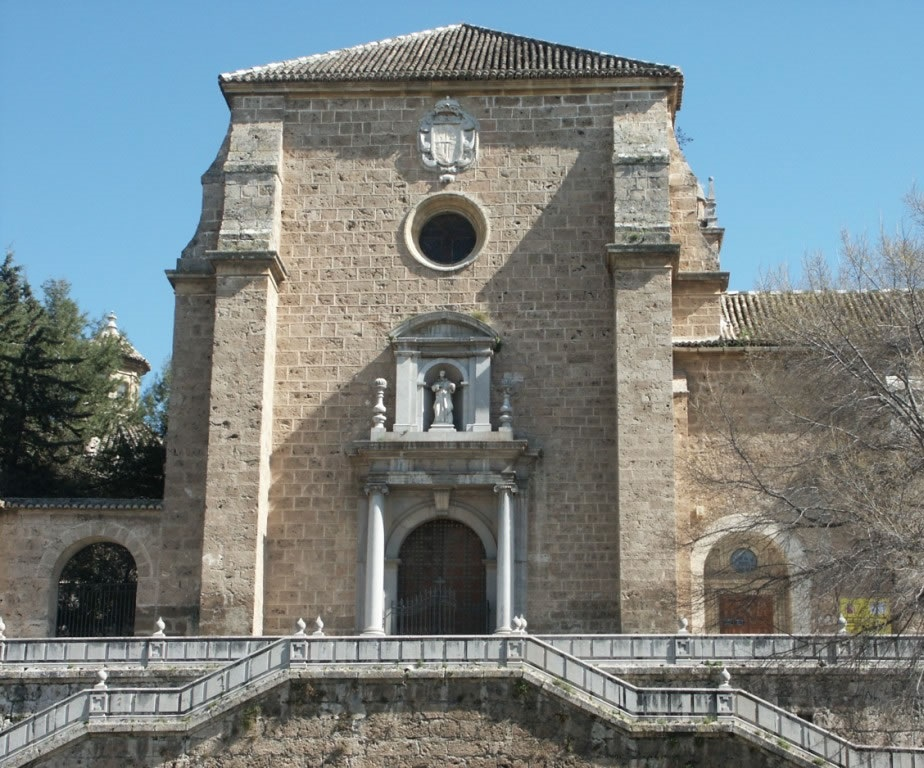arco-medio-punto: (392, 509, 492, 572), (50, 532, 144, 593)
fronton-curvo: (384, 305, 505, 347)
ojo-de-buey: (398, 189, 502, 272)
